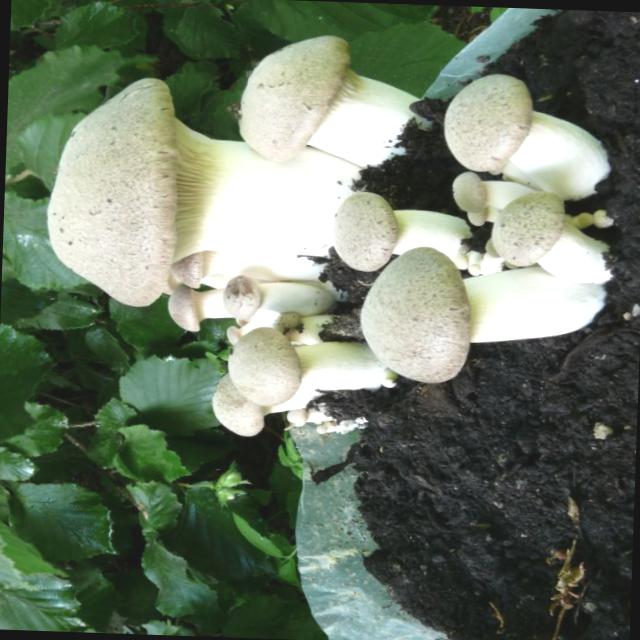Pleurotus eryngii: (46, 72, 353, 310), (360, 186, 613, 388), (237, 35, 422, 170), (441, 71, 609, 192), (211, 325, 385, 437)
